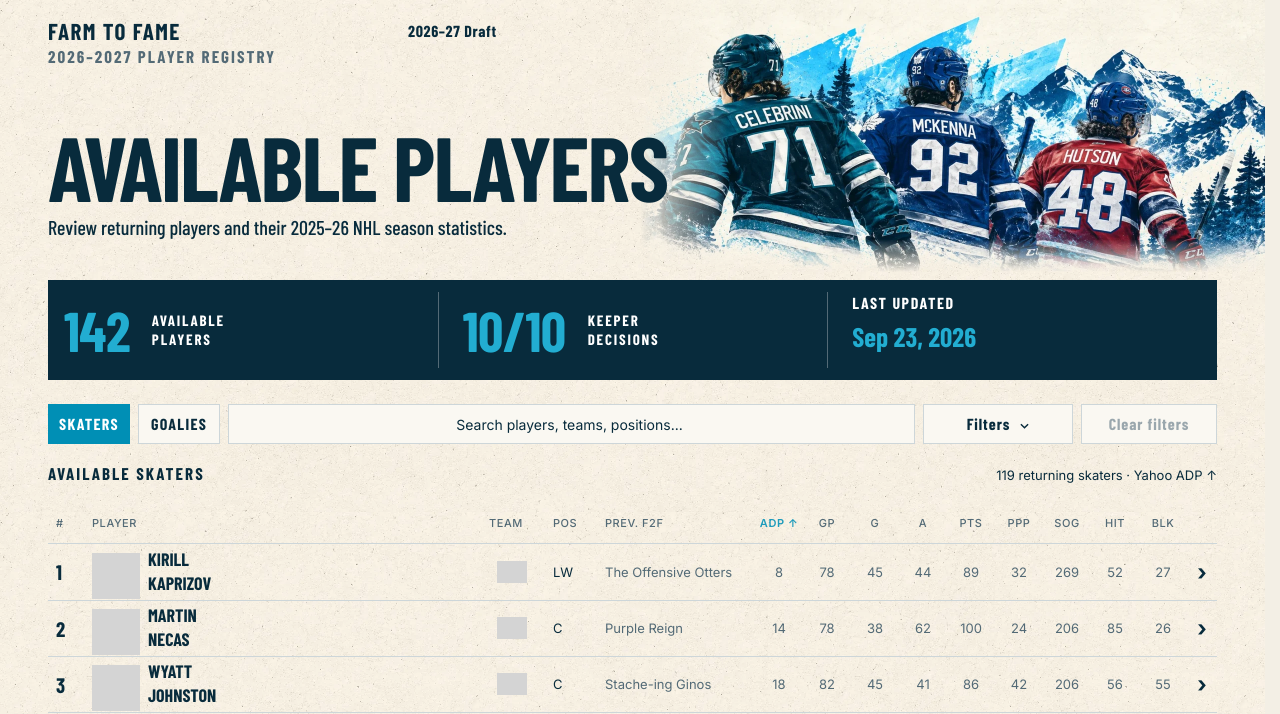
it: Available Players page › shows live counts beside filter options and the active count in the panel
The width and height of the screenshot is (1280, 714).
Click the button "Filters".
click(998, 424)  # box [923,404,1073,444]
(page scrolled)
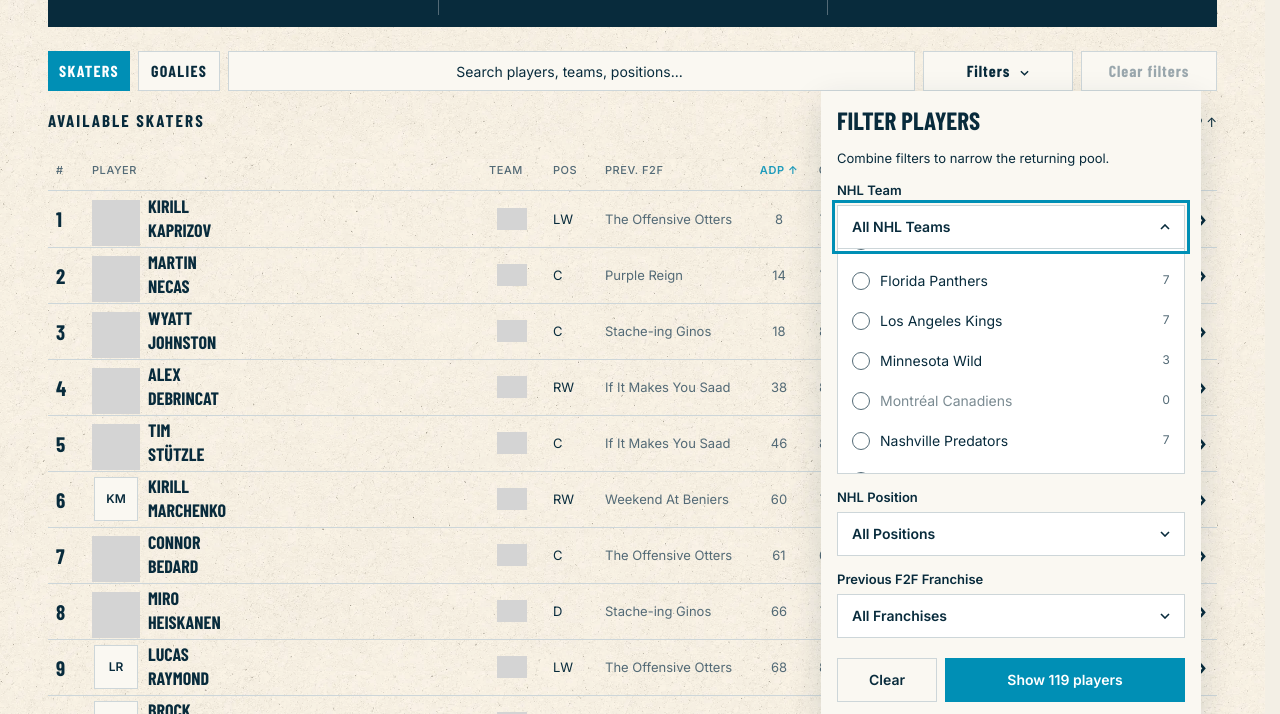
Check: the radio button with aria-label "Minnesota Wild, 3 players" is shown
Click the radio button labelled "Minnesota Wild 3".
click(931, 361)  # box [852,352,1170,370]
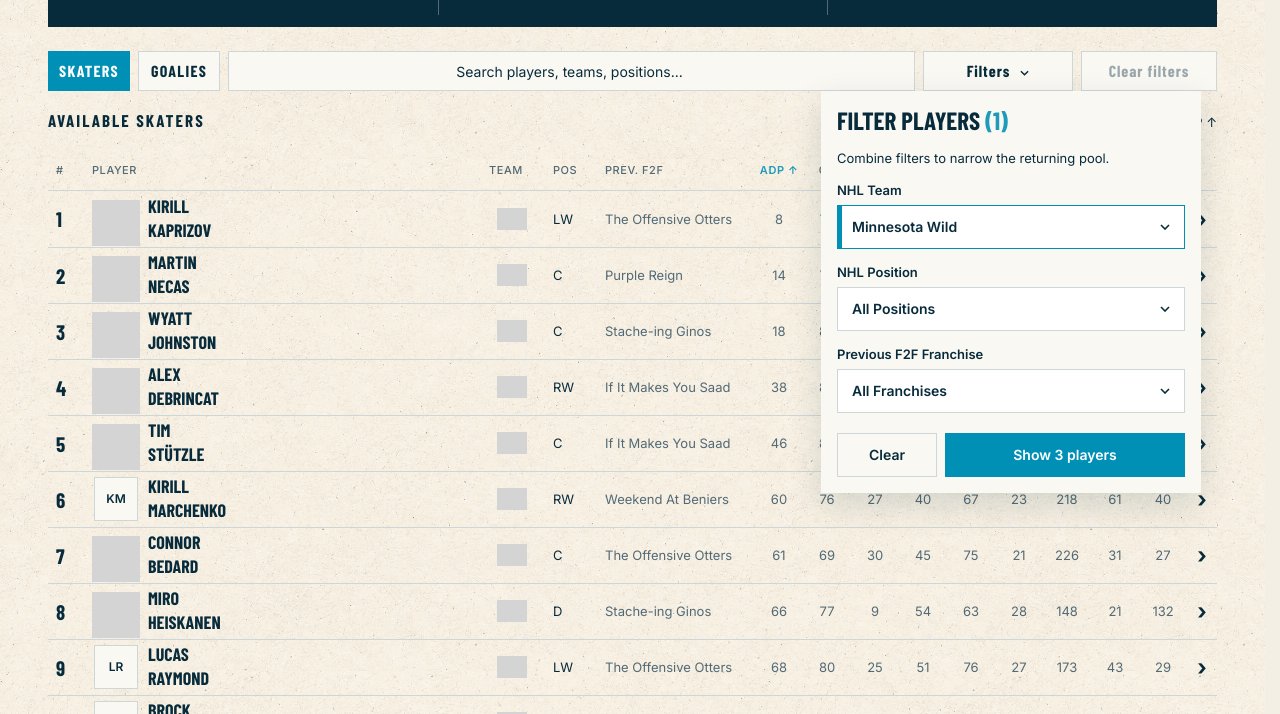
Check: the heading "Filter players (1)" is shown, box [837,105,1008,135]
Click the button "All Positions".
click(894, 309)  # box [837,287,1185,331]
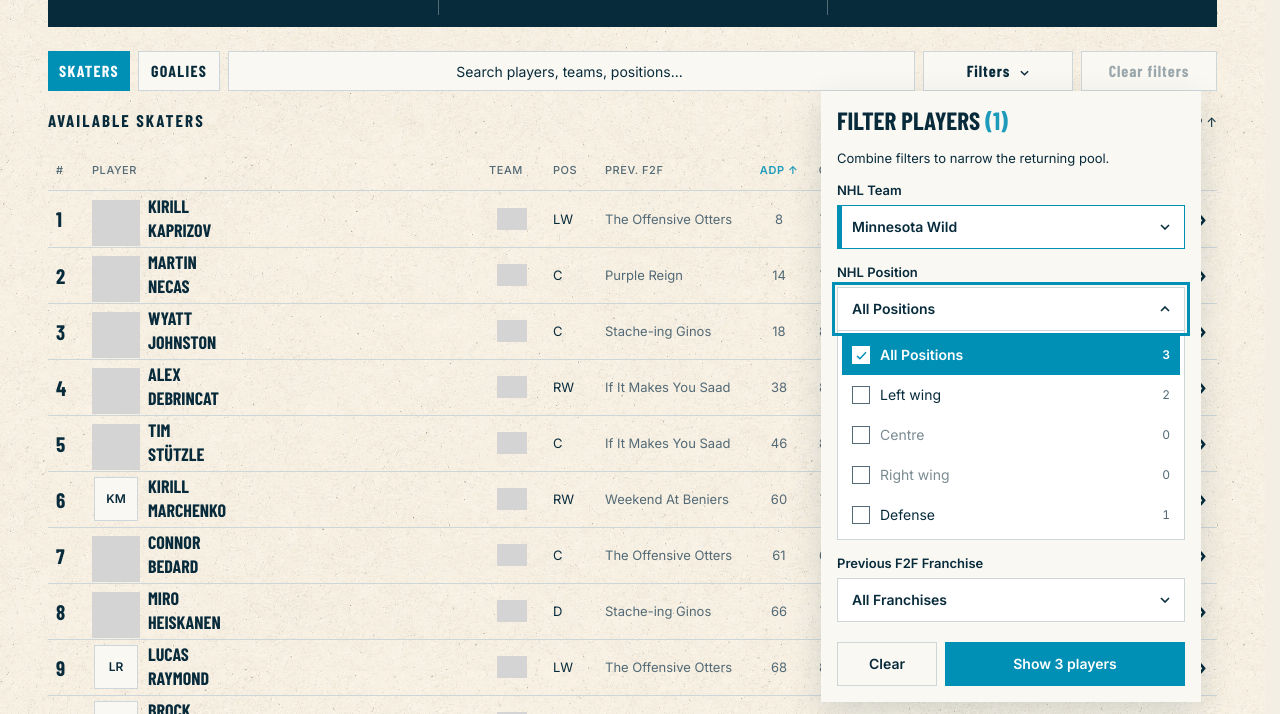
Check: the checkbox named "Left wing, 2 players" is shown, box [852,386,1170,404]
Check: the checkbox named "Defense, 1 player" is shown, box [852,506,1170,524]
